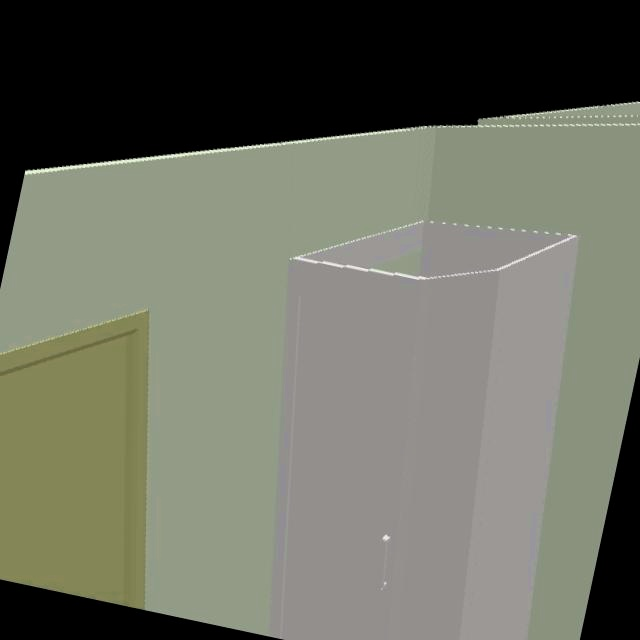shower: (264, 219, 578, 640)
